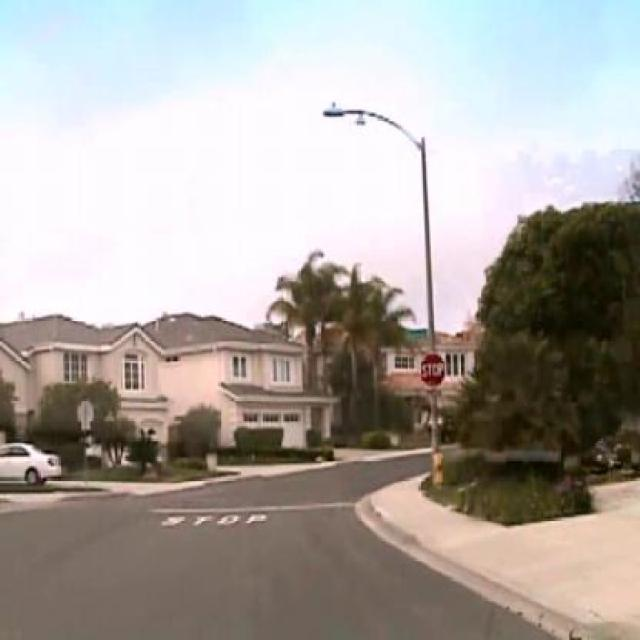stop: (420, 352, 446, 388)
